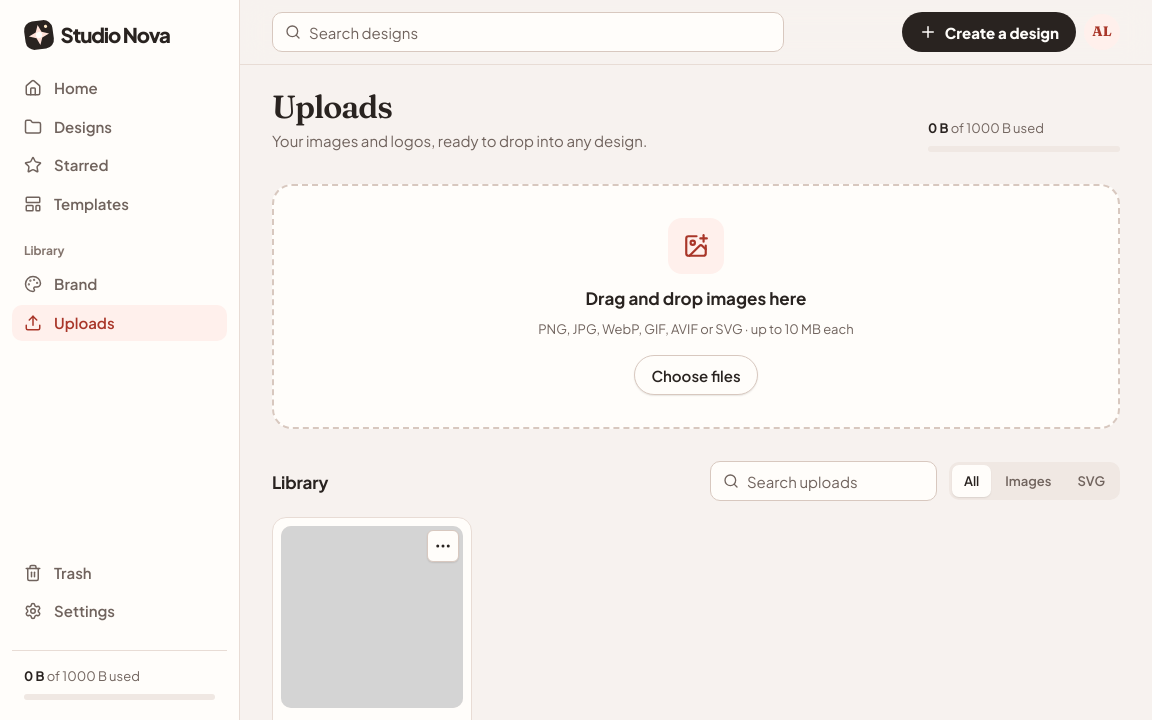
uploads page › renames an upload and edits its tags
Click the button named "More actions for cat.png" at (443,546), box [427,530,459,562]
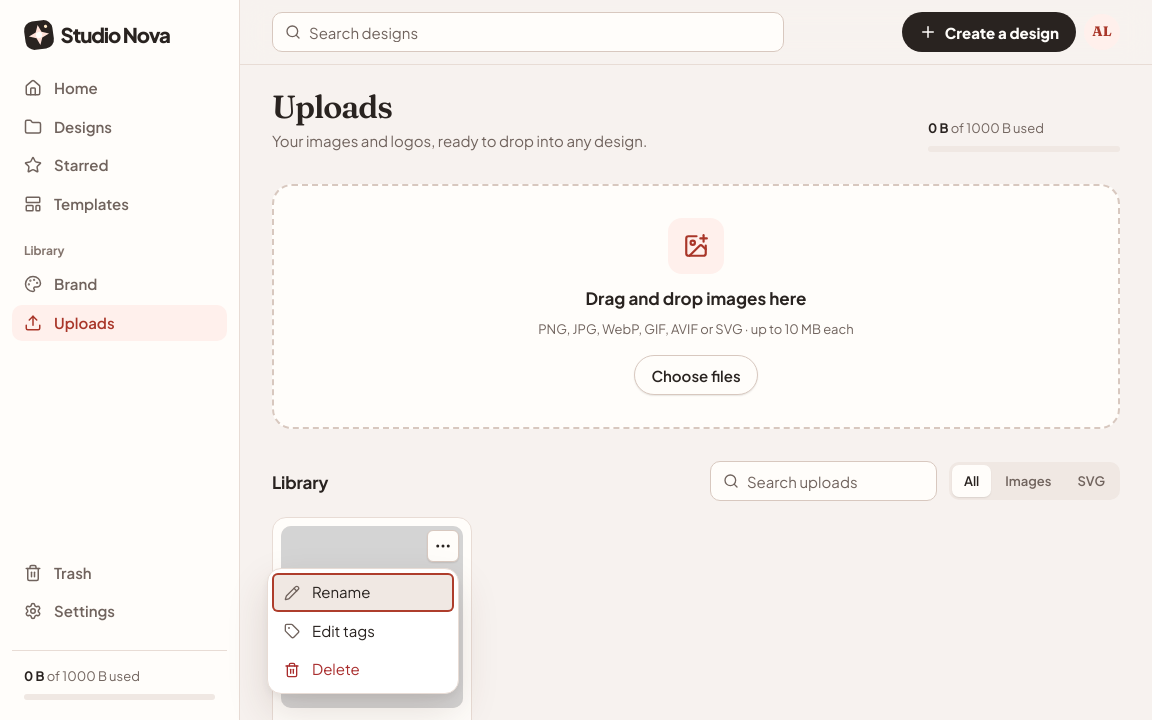
Click the menu item "Rename" at (363,593), box [272,573,454,612]
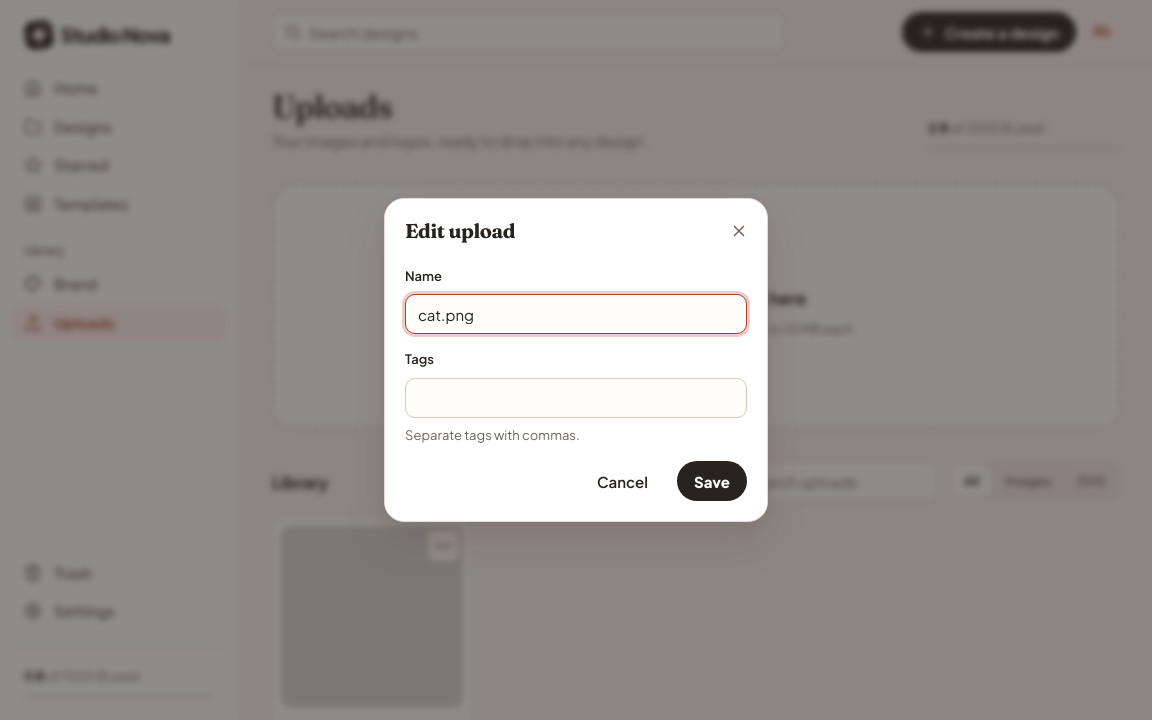
Replace the text in the field labelled "Name" with "kitten.png" at (576,314), box [418,295,734,333]
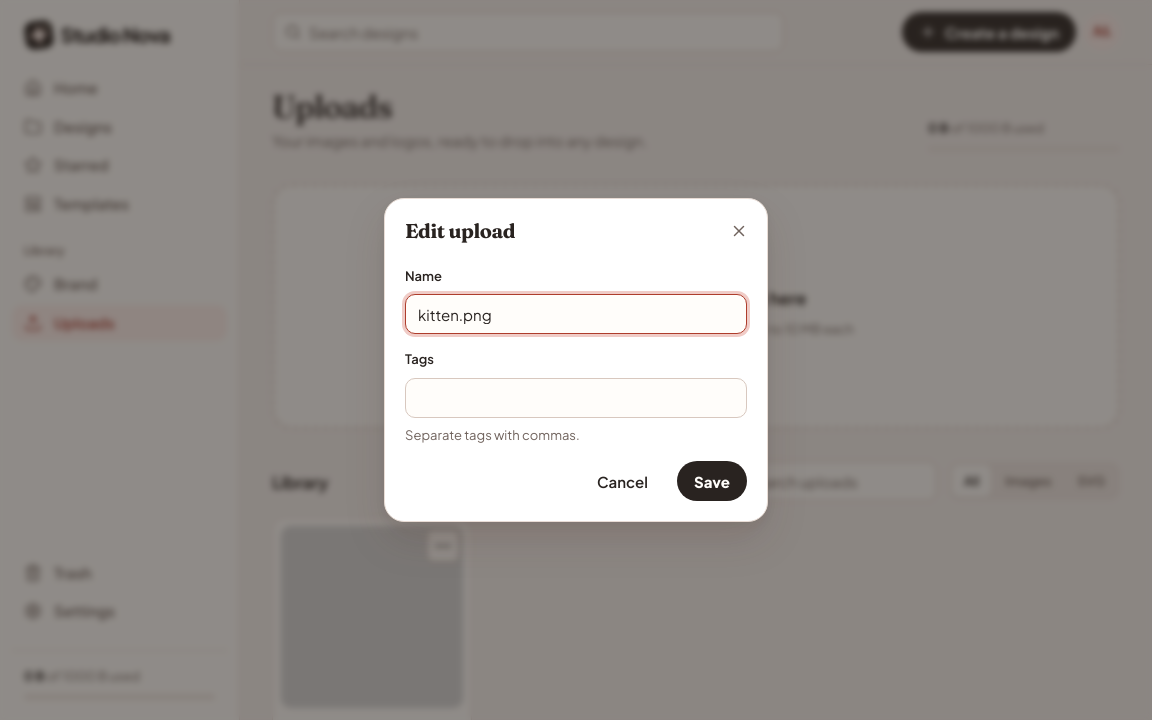
Type " Pets, pets " into the field labelled "Tags" at (576,398), box [418,379,734,417]
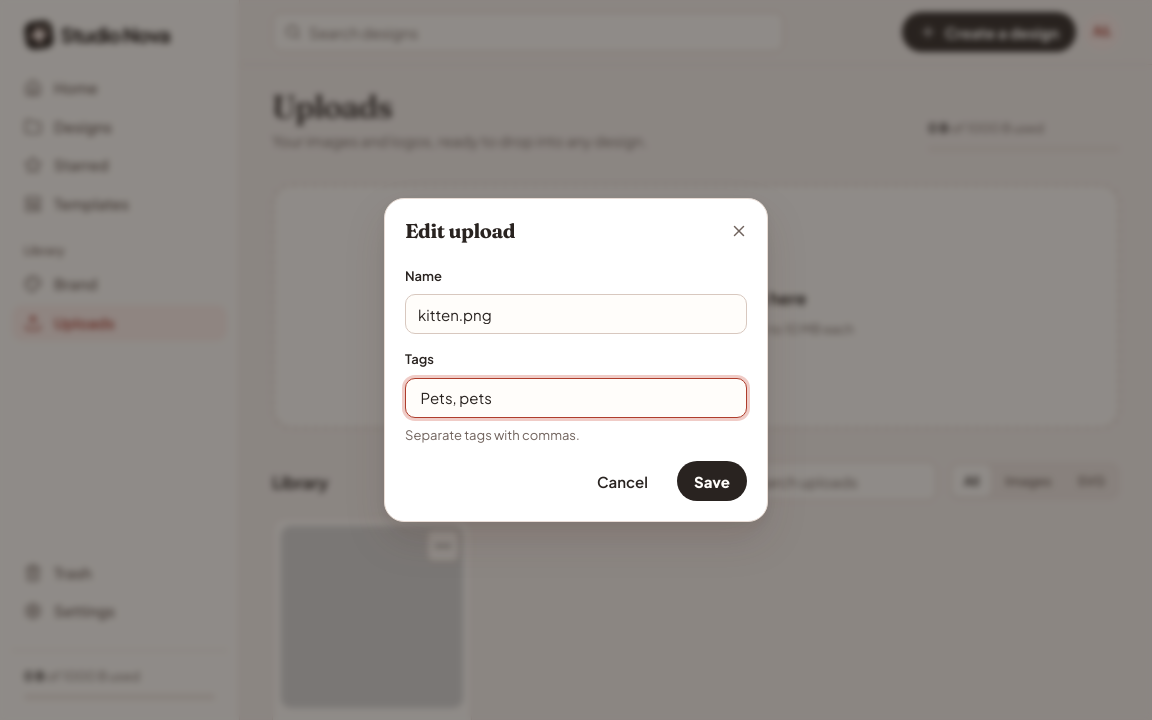
Click the button "Save" at (712,481), box [677,461,747,501]
(page scrolled)
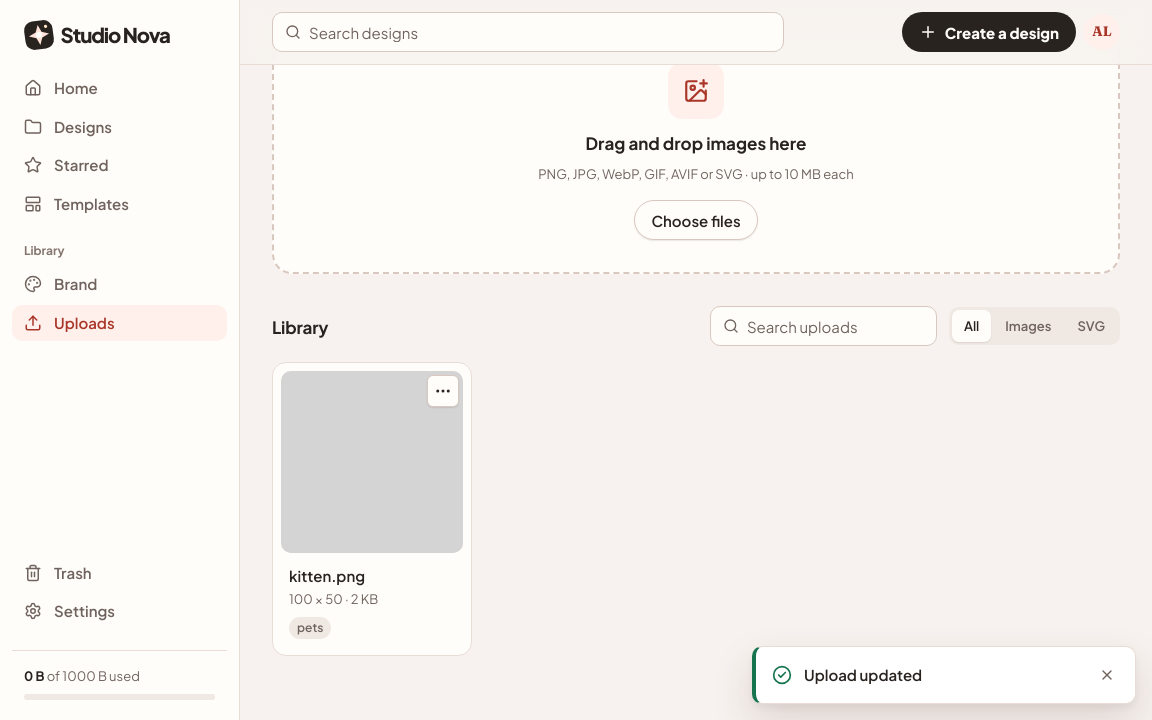
Expected: the text "kitten.png" is shown, [289,566,365,585]
